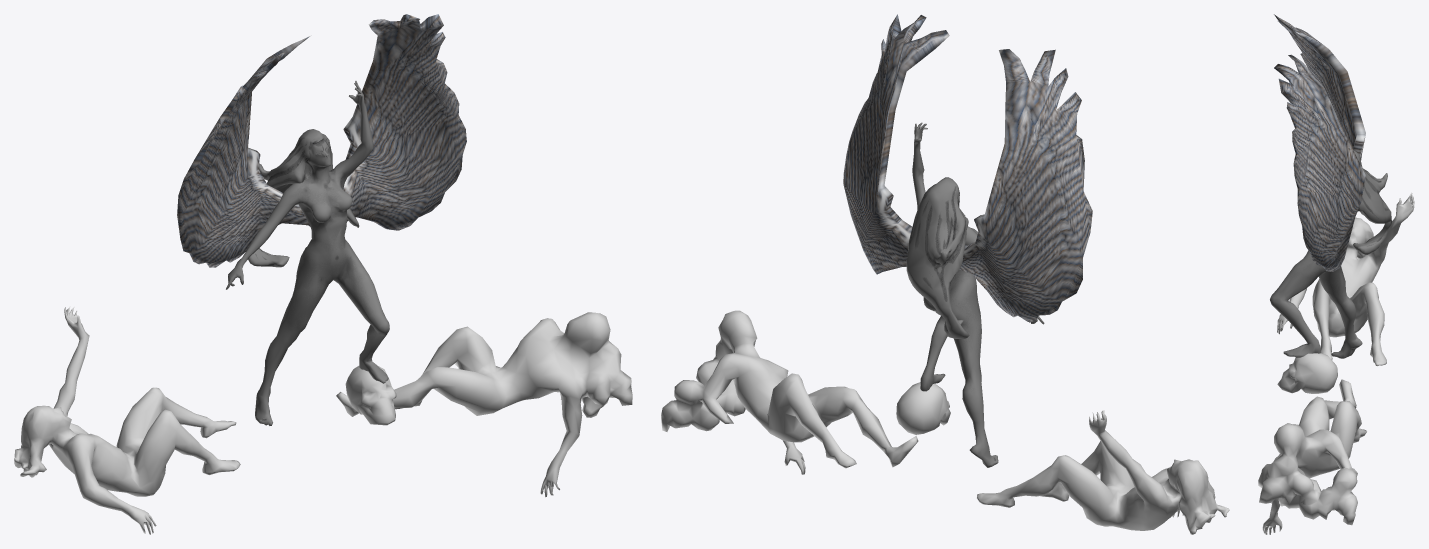
The model's file is Fireplacefromhell_Statues.fbx.
3 views of the same model, side by side, from view 1: azimuth 30°, elevation 25°; view 2: azimuth 150°, elevation 25°; view 3: azimuth 270°, elevation 25° (orthographic). The views are drawn at different scales.
Visible parts, largest first — view 1: FireplaceHellStatues_LOD0; view 2: FireplaceHellStatues_LOD0; view 3: FireplaceHellStatues_LOD0.
Part boxes in pixels (bbox=[...]): FireplaceHellStatues_LOD0: bbox=[14, 14, 632, 534]; FireplaceHellStatues_LOD0: bbox=[661, 14, 1229, 534]; FireplaceHellStatues_LOD0: bbox=[1258, 14, 1414, 534].
Size of what is drawn, in the model's own units: 680 by 568 by 193.
